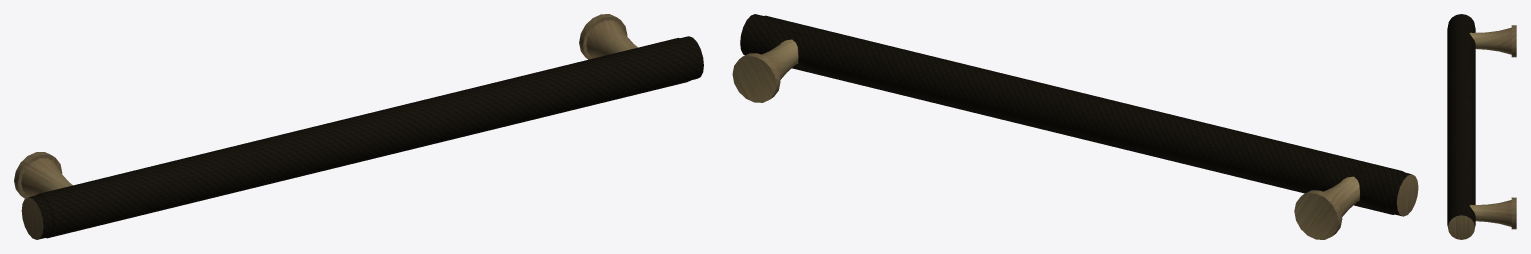
The model's file is brass-remi.glb.
The picture shows the model from 3 angles, left to right: view 1: azimuth 30°, elevation 25°; view 2: azimuth 150°, elevation 25°; view 3: azimuth 270°, elevation 25°; orthographic projection. The views are drawn at different scales.
Parts seen in each view (by area): view 1: REMI; view 2: REMI; view 3: REMI.
Part boxes in pixels (<box>): REMI: <box>14,14,703,239</box>; REMI: <box>732,14,1418,239</box>; REMI: <box>1447,14,1516,239</box>.
Size of the model in its own units: 6 by 0.4033 by 0.8738.
2 materials, 2 textured.
